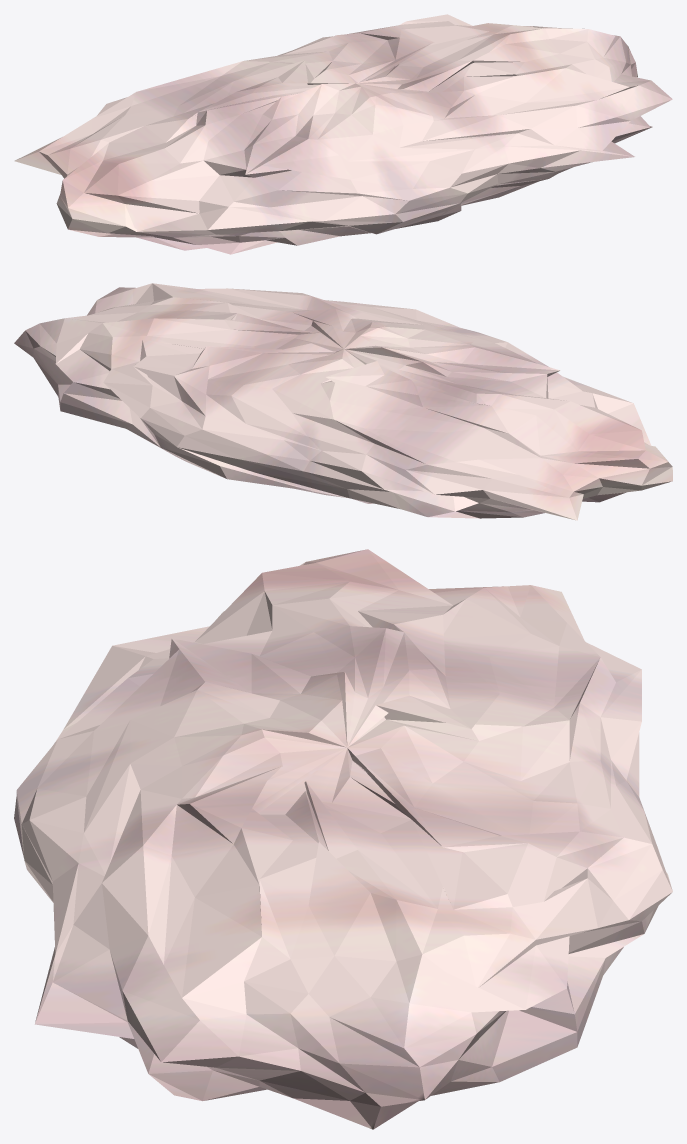
The model's file is Cloud.glb.
3 views of the same model, one above another, from view 1: azimuth 30°, elevation 25°; view 2: azimuth 150°, elevation 25°; view 3: azimuth 270°, elevation 25° (orthographic). The views are drawn at different scales.
Visible parts, largest first — view 1: Cloud; view 2: Cloud; view 3: Cloud.
Boxes of the visible parts, <box> form: Cloud: <box>14,14,672,254</box>; Cloud: <box>14,283,672,520</box>; Cloud: <box>14,549,672,1129</box>.
Size of the model in its own units: 201 by 37.22 by 106.
Materials: 1 (1 with a texture image).
